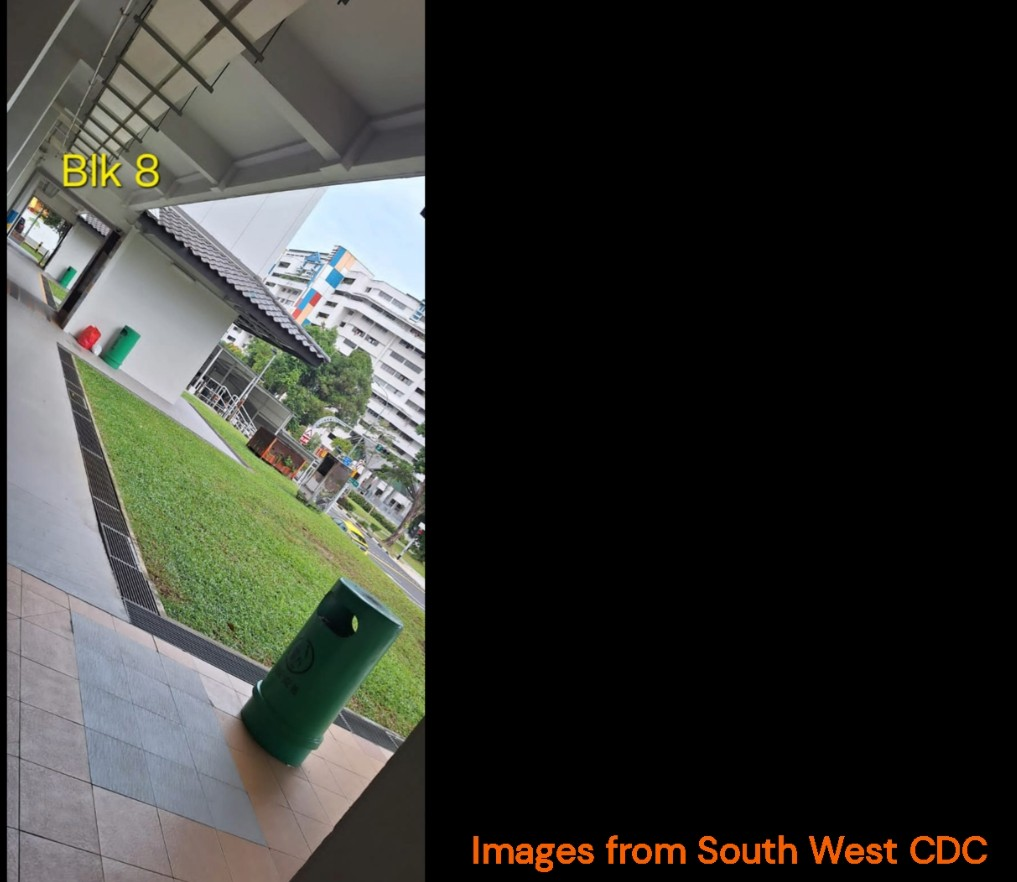bin_empty: (241, 578, 402, 764), (101, 326, 139, 368)
